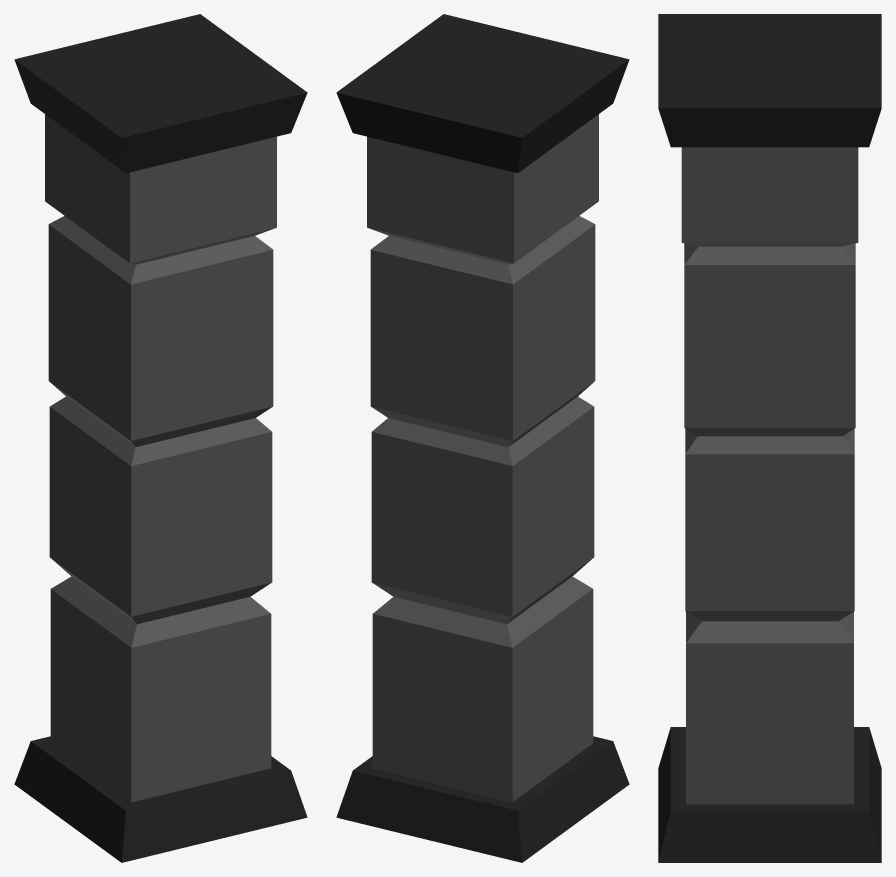
The model's file is Floor_pillar_C.fbx.
3 renders of one model, left to right at view 1: azimuth 30°, elevation 25°; view 2: azimuth 150°, elevation 25°; view 3: azimuth 270°, elevation 25°, orthographic. The views are drawn at different scales.
Parts seen in each view (by area): view 1: Floor_pillar_C; view 2: Floor_pillar_C; view 3: Floor_pillar_C.
Boxes of the visible parts, left/top/right/bottom form: Floor_pillar_C: left=14, top=14, right=307, bottom=862; Floor_pillar_C: left=336, top=14, right=629, bottom=862; Floor_pillar_C: left=658, top=14, right=881, bottom=862.
Bounding box in the file's own units: 100 × 373 × 100.
